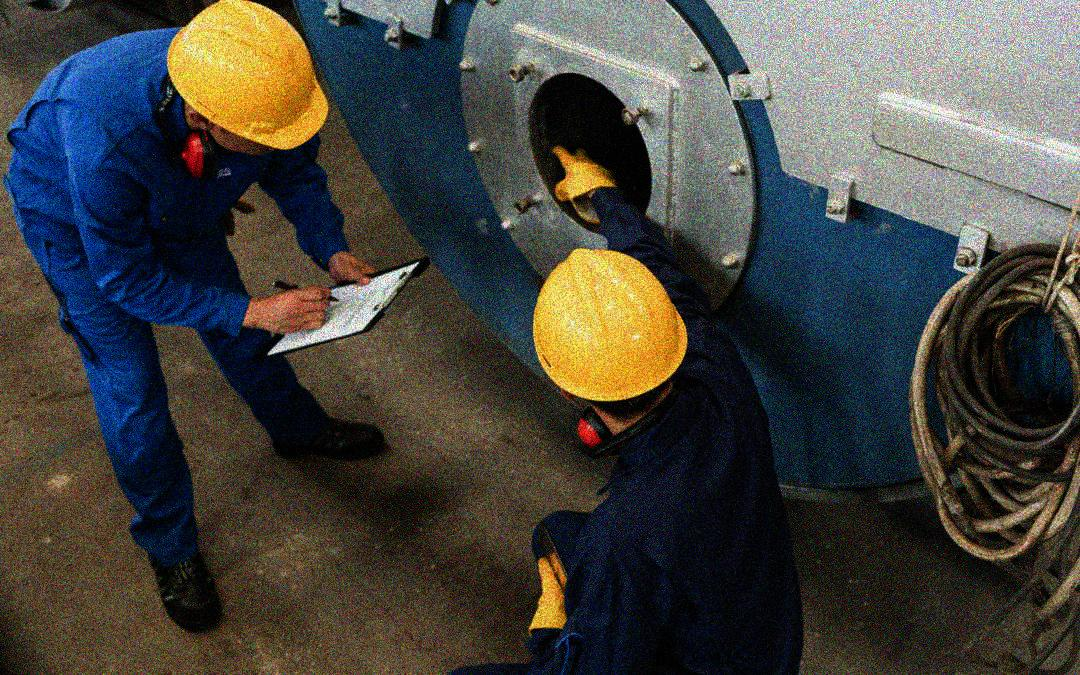helmet: (530, 238, 696, 440), (166, 1, 334, 163)
